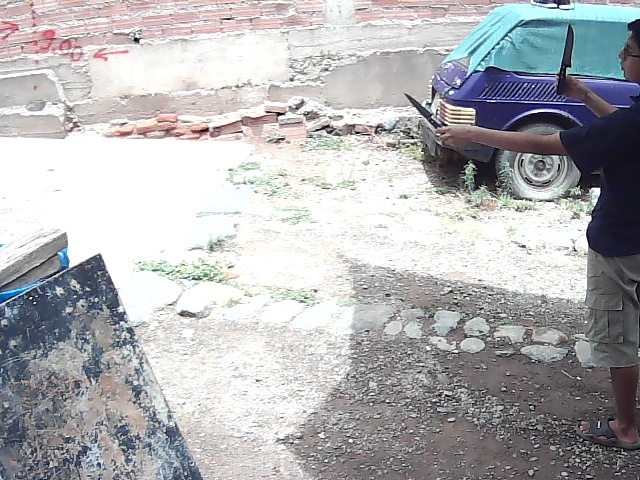cuchillo: (399, 88, 453, 145), (552, 20, 581, 101)
